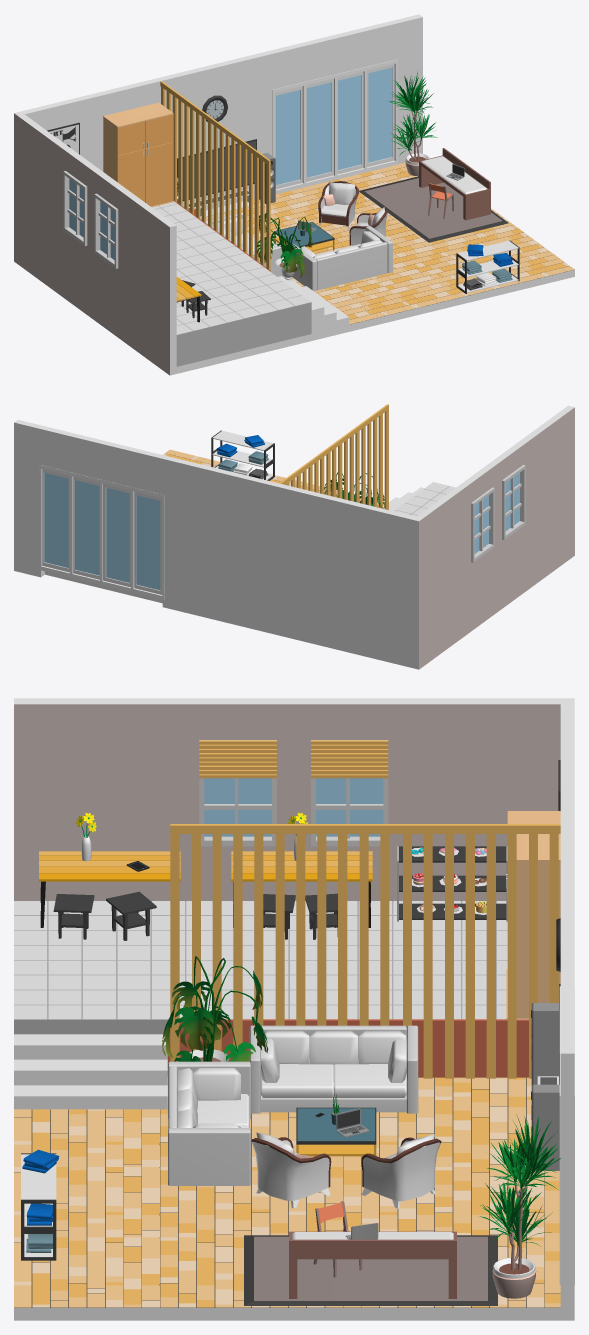
The model's file is room_9.glb.
3 renders of one model, top to bottom at view 1: azimuth 30°, elevation 25°; view 2: azimuth 150°, elevation 25°; view 3: azimuth 270°, elevation 25°, orthographic. The views are drawn at different scales.
Parts seen in each view (by area): view 1: window_011.002, Walls_006.050, Walls_166.003, Walls_166.004, floor_014.013, closet_024.001, Walls_188.015, Walls_006.058, Walls_011.013, carpet_001.002, floor_015.037, sofa_032.002 (+42 smaller); view 2: Walls_006.050, window_011.002, Walls_166.004, Walls_166.003, Walls_006.058, Walls_006.057, Walls_166.005, window_034.002, window_034.001, Walls_166.009, Walls_166.008, shelf_076.001 (+13 smaller); view 3: Walls_166.003, Walls_166.004, floor_014.013, floor_015.035, floor_015.037, sofa_032.001, floor_014.014, carpet_001.002, Walls_011.013, floor_015.038, Stairs_053.003, sofa_032.002 (+53 smaller).
Part boxes in pixels (x1,y1,x2,y2): window_011.002: (272, 59, 397, 194); Walls_006.050: (21, 50, 274, 210); Walls_166.003: (117, 187, 176, 375); Walls_166.004: (14, 111, 72, 299); floor_014.013: (176, 246, 310, 334); closet_024.001: (103, 102, 174, 207); Walls_188.015: (155, 204, 311, 366); Walls_006.058: (271, 21, 395, 89); Walls_011.013: (176, 167, 574, 373); carpet_001.002: (359, 176, 508, 242); floor_015.037: (372, 234, 494, 308); sofa_032.002: (292, 226, 392, 291); Walls_006.050: (162, 456, 415, 667); window_011.002: (39, 465, 164, 600); Walls_166.004: (412, 481, 471, 669); Walls_166.003: (516, 405, 574, 593); Walls_006.058: (41, 426, 165, 494); Walls_006.057: (14, 419, 44, 577); Walls_166.005: (485, 458, 502, 616); window_034.002: (471, 487, 494, 562); window_034.001: (502, 465, 525, 539); Walls_166.009: (471, 550, 491, 630); Walls_166.008: (503, 527, 522, 607); shelf_076.001: (211, 430, 274, 480); Walls_166.003: (14, 698, 203, 901); Walls_166.004: (385, 698, 574, 901); floor_014.013: (14, 901, 288, 1019); floor_015.035: (14, 1237, 287, 1307); floor_015.037: (14, 1167, 287, 1237); sofa_032.001: (249, 1025, 418, 1113); floor_014.014: (290, 901, 528, 1019); carpet_001.002: (244, 1235, 497, 1305); Walls_011.013: (14, 1078, 560, 1320); floor_015.038: (288, 1167, 559, 1237); Stairs_053.003: (14, 1034, 167, 1109); sofa_032.002: (168, 1061, 250, 1185).
Size of the model in its own units: 12.07 by 4.2 by 8.01.
1 material, 1 textured.
